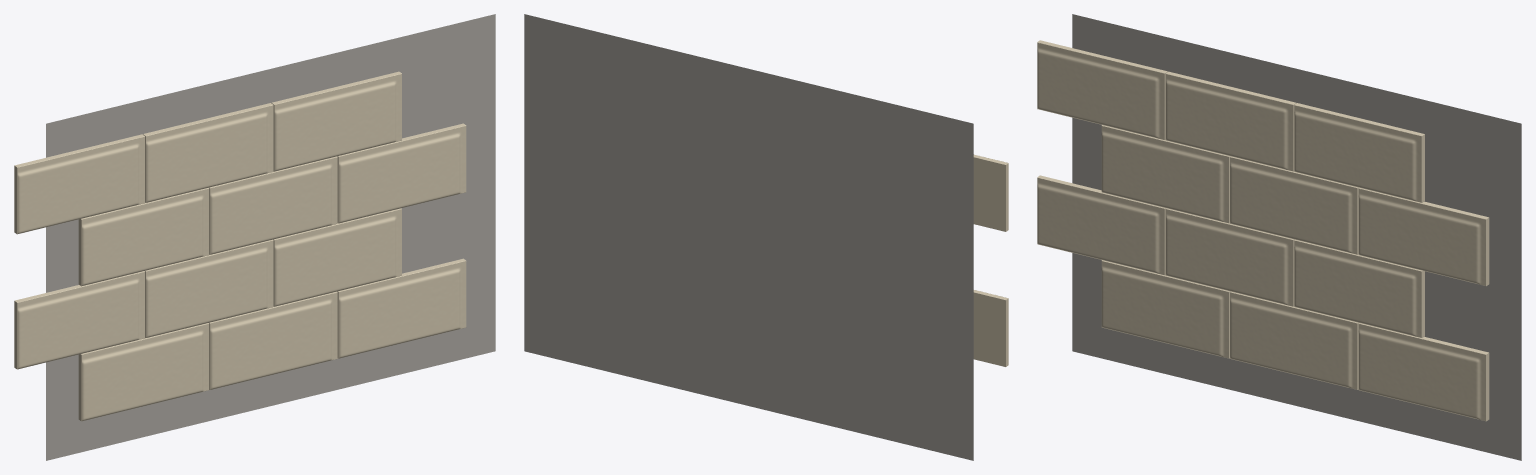
File: terilgan.glb
3 views of the same model, side by side, from view 1: azimuth 30°, elevation 25°; view 2: azimuth 150°, elevation 25°; view 3: azimuth 330°, elevation 25° (orthographic).
Visible parts, largest first — view 1: Plane, t3_0, t1_0, t3_2, t3_1, t0_0, t2_0, t0_2, t2_2, t1_2, t2_1, t0_1 (+1 smaller); view 2: Plane, t3_0, t1_0; view 3: Plane, t3_2, t2_2, t0_2, t3_1, t3_0, t1_2, t1_0, t1_1, t0_1, t2_1, t0_0 (+1 smaller).
Boxes of the visible parts, x1,y1,x2,y2 form: Plane: [46, 14, 495, 460]; t3_0: [14, 134, 144, 234]; t1_0: [14, 271, 144, 369]; t3_2: [271, 71, 401, 171]; t3_1: [143, 103, 273, 202]; t0_0: [78, 323, 209, 421]; t2_0: [78, 187, 209, 286]; t0_2: [337, 258, 466, 358]; t2_2: [337, 123, 466, 223]; t1_2: [273, 208, 401, 306]; t2_1: [209, 156, 337, 254]; t0_1: [209, 291, 337, 389]; Plane: [524, 14, 973, 460]; t3_0: [973, 154, 1008, 231]; t1_0: [973, 290, 1008, 366]; Plane: [1072, 14, 1521, 460]; t3_2: [1294, 103, 1424, 202]; t2_2: [1358, 187, 1489, 286]; t0_2: [1358, 323, 1489, 421]; t3_1: [1165, 71, 1296, 171]; t3_0: [1037, 40, 1167, 139]; t1_2: [1294, 239, 1424, 337]; t1_0: [1037, 175, 1165, 275]; t1_1: [1165, 208, 1294, 306]; t0_1: [1230, 291, 1358, 389]; t2_1: [1230, 156, 1358, 254]; t0_0: [1101, 260, 1230, 358].
Size of the model in its own units: 2.26 by 1.51 by 0.0319.
